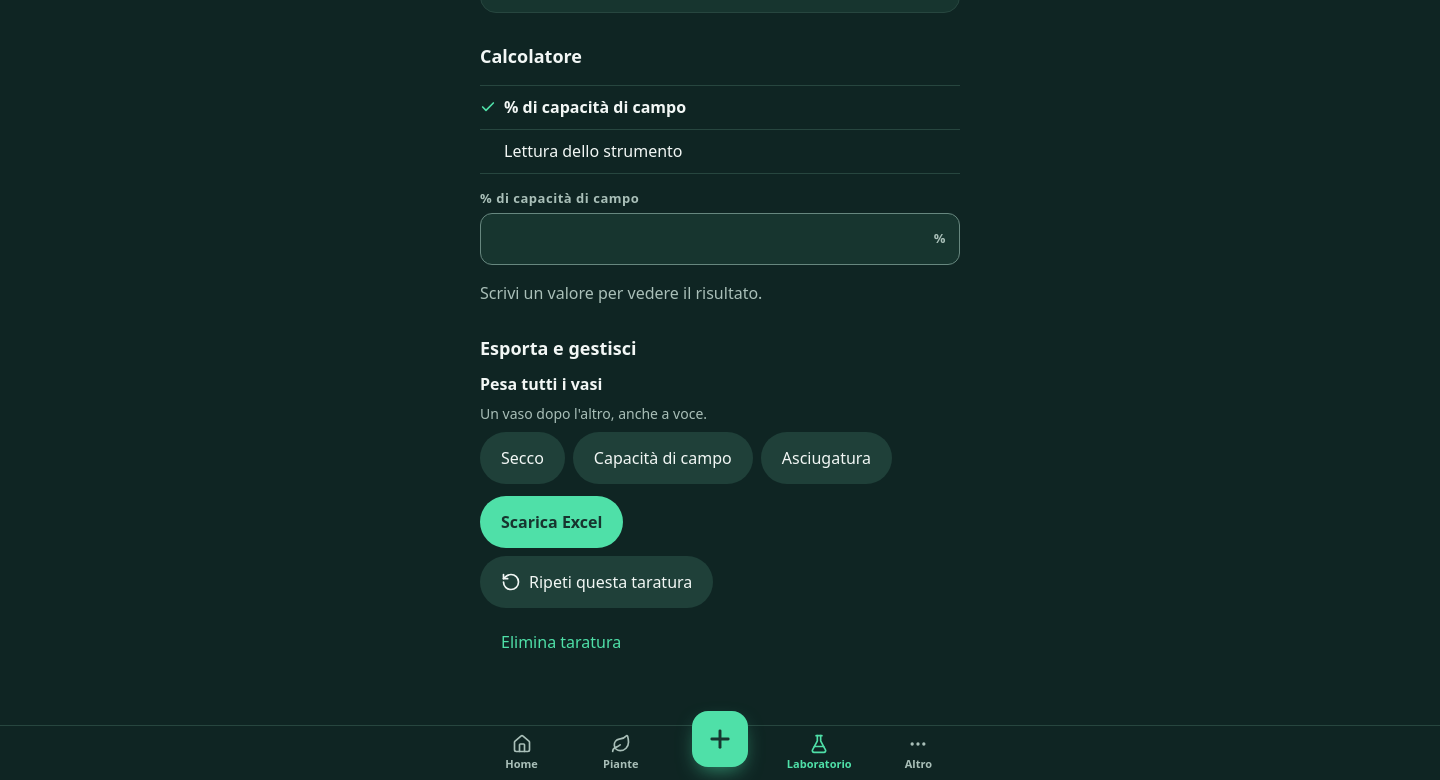
Test: SessioneTaratura › Scarica Excel senza alcuna configurazione mostra l'errore e non scarica
(page scrolled)
Click the button "Scarica Excel" at [552, 522], box [480,496,623,548]
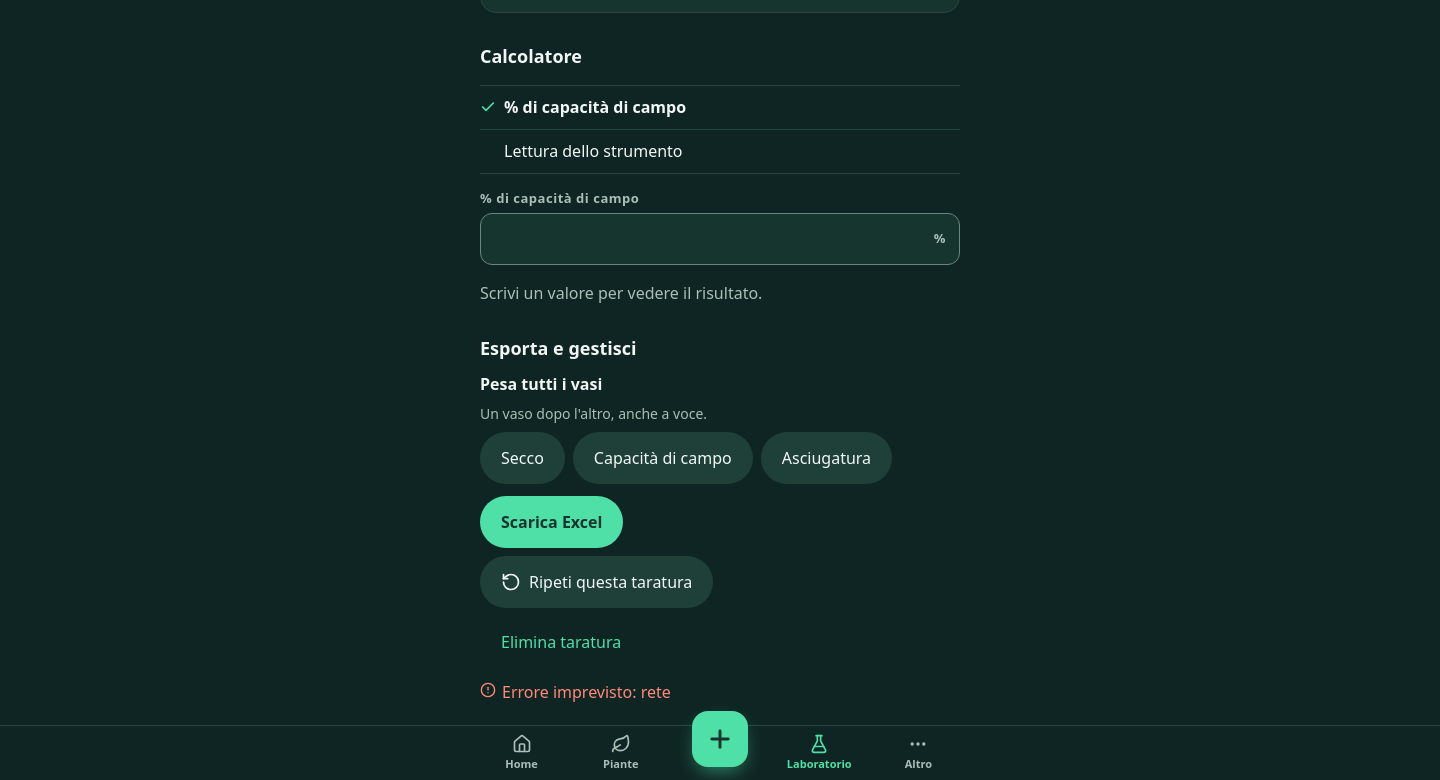
Expected: the message "Errore imprevisto: rete" is shown, [480,681,671,703]
